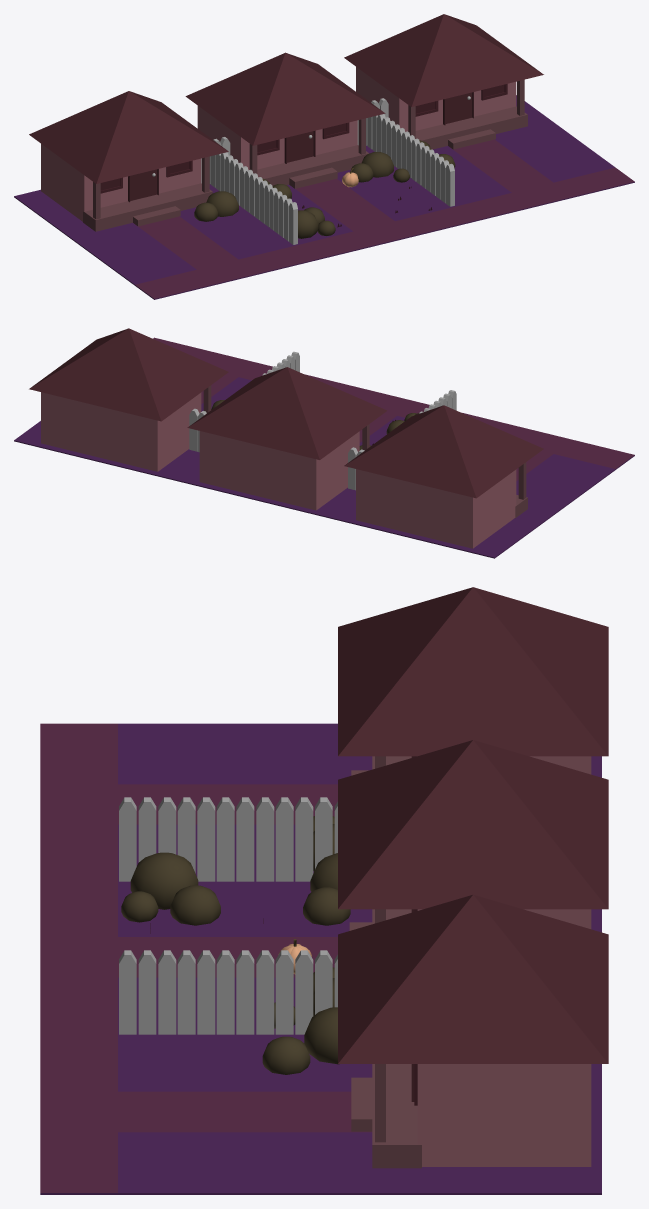
Rendered from House.fbx.
The picture shows the model from 3 angles, top to bottom: view 1: azimuth 30°, elevation 25°; view 2: azimuth 150°, elevation 25°; view 3: azimuth 270°, elevation 25°; orthographic projection. The views are drawn at different scales.
Visible parts, largest first — view 1: pCube45, pCube53, pCube8, pCube52, pCube40, pCube31, pCube32, pCube47, pCube34, pCube5, pCube50, pCube38 (+10 smaller); view 2: pCube8, pCube40, pCube52, pCube53, pCube47, pCube34, pCube5, pCube45, pCube31, pCube42, pCube32; view 3: pCube45, pCube40, pCube8, pCube52, pCube53, pCube34, pCube32, pCube31, pCube38, pSphere20, pSphere22, pSphere11 (+5 smaller).
Boxes of the visible parts, box(x1,y1,x2,y2) form: pCube45: box(209, 95, 634, 261); pCube53: box(14, 186, 319, 299); pCube8: box(185, 52, 385, 145); pCube52: box(29, 91, 228, 183); pCube40: box(344, 14, 543, 106); pCube31: box(209, 137, 297, 244); pCube32: box(357, 114, 454, 206); pCube47: box(41, 144, 201, 221); pCube34: box(356, 67, 516, 131); pCube5: box(197, 106, 357, 170); pCube50: box(83, 183, 212, 231); pCube38: box(415, 106, 527, 149); pCube8: box(187, 367, 386, 459); pCube40: box(29, 328, 228, 421); pCube52: box(344, 405, 543, 498); pCube53: box(329, 416, 634, 558); pCube47: box(356, 469, 516, 548); pCube34: box(41, 392, 201, 471); pCube5: box(199, 431, 359, 510); pCube45: box(14, 337, 477, 520); pCube31: box(348, 390, 456, 490); pCube42: box(189, 408, 206, 452); pCube32: box(262, 351, 299, 375); pCube45: box(40, 876, 601, 1194); pCube40: box(338, 894, 608, 1063); pCube8: box(338, 740, 608, 909); pCube52: box(338, 587, 608, 756); pCube53: box(40, 723, 601, 876); pCube34: box(417, 1064, 591, 1166); pCube32: box(119, 950, 337, 1034); pCube31: box(119, 797, 337, 881); pCube38: box(372, 1064, 421, 1168); pSphere20: box(130, 852, 198, 909); pSphere22: box(170, 885, 220, 925); pSphere11: box(304, 1007, 339, 1064).
Size of the model in its own units: 47.3 by 11.12 by 24.21.
